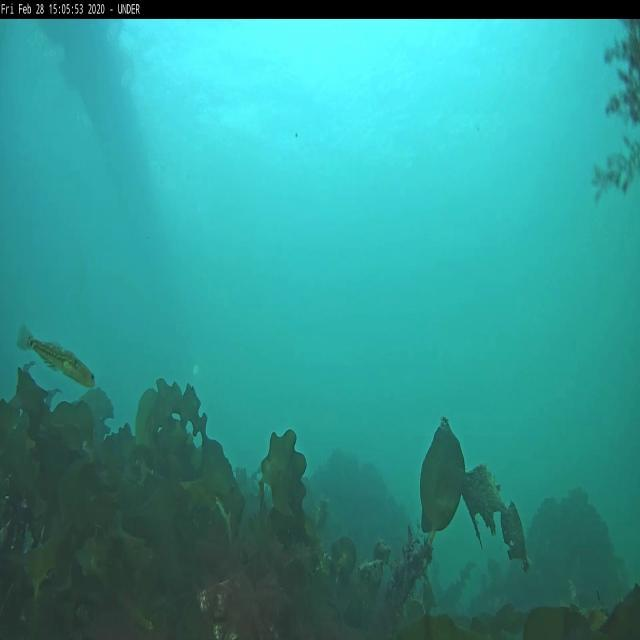fish: (17, 328, 95, 388)
